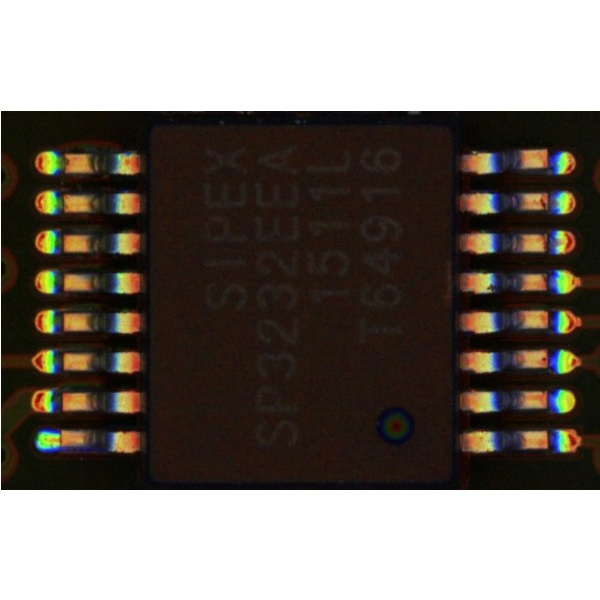Bad_podu: (49, 434, 68, 445)
